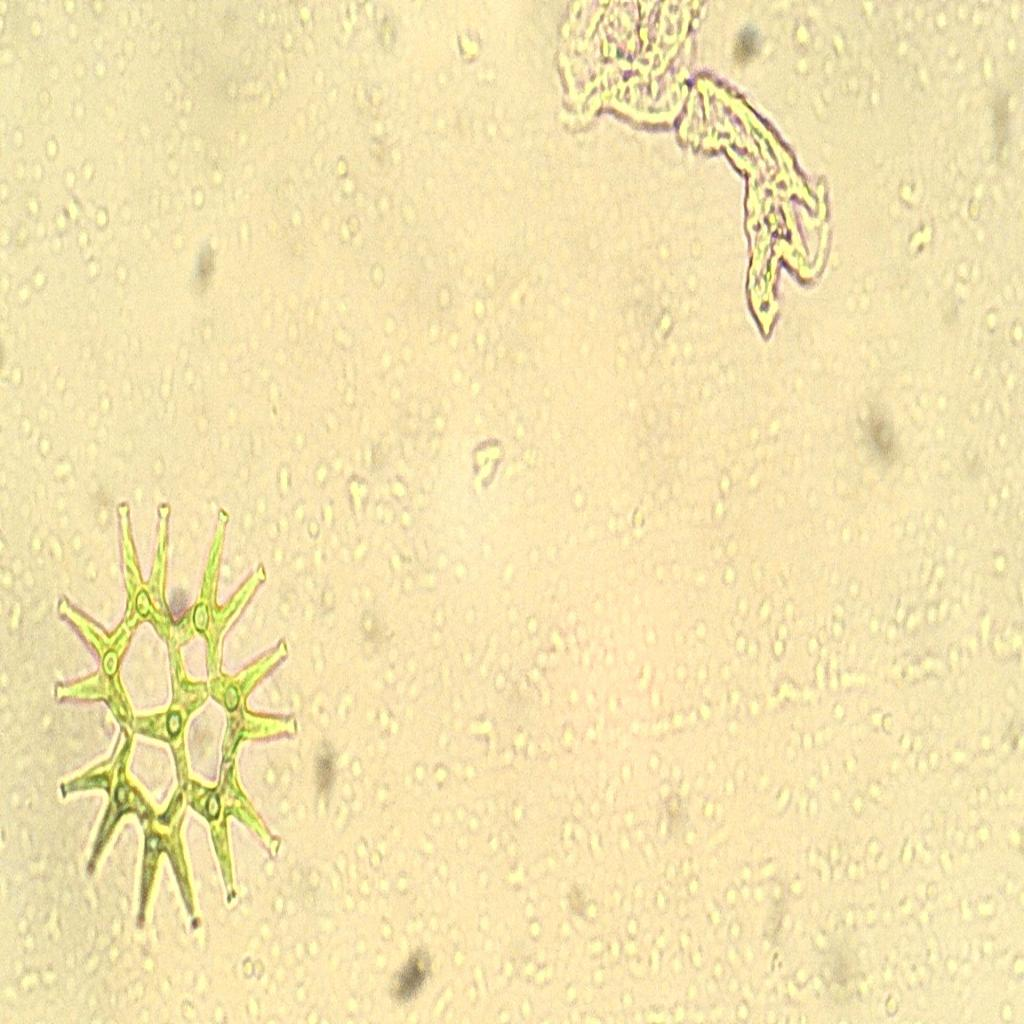Pediastrum_75T: (42, 475, 302, 975)
